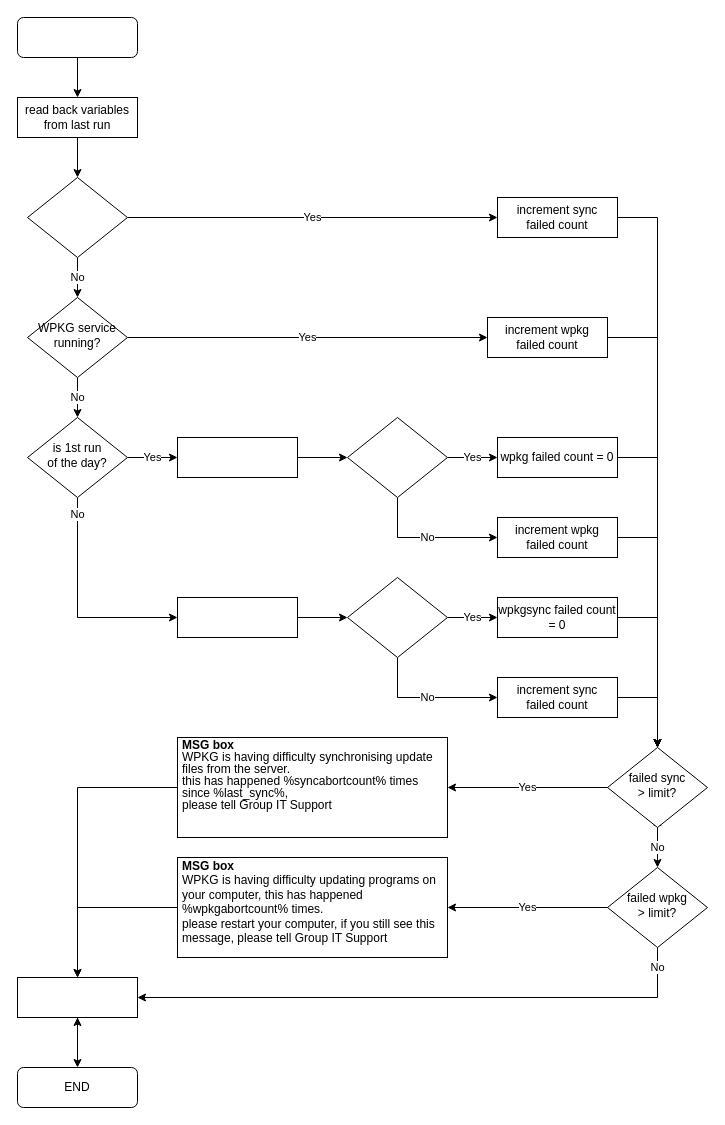
The diagram is 725 pixels wide and 1125 high, and some of its shapes have lost their labels. Each missing label, with the centre of its shape:
save variables: the point at 77,997
START: the point at 77,37
start WPKG service: the point at 237,457
start wpkgsync: the point at 237,617
sync already running?: the point at 77,217
WPKG start OK?: the point at 397,457
wpkgsync OK?: the point at 397,617
